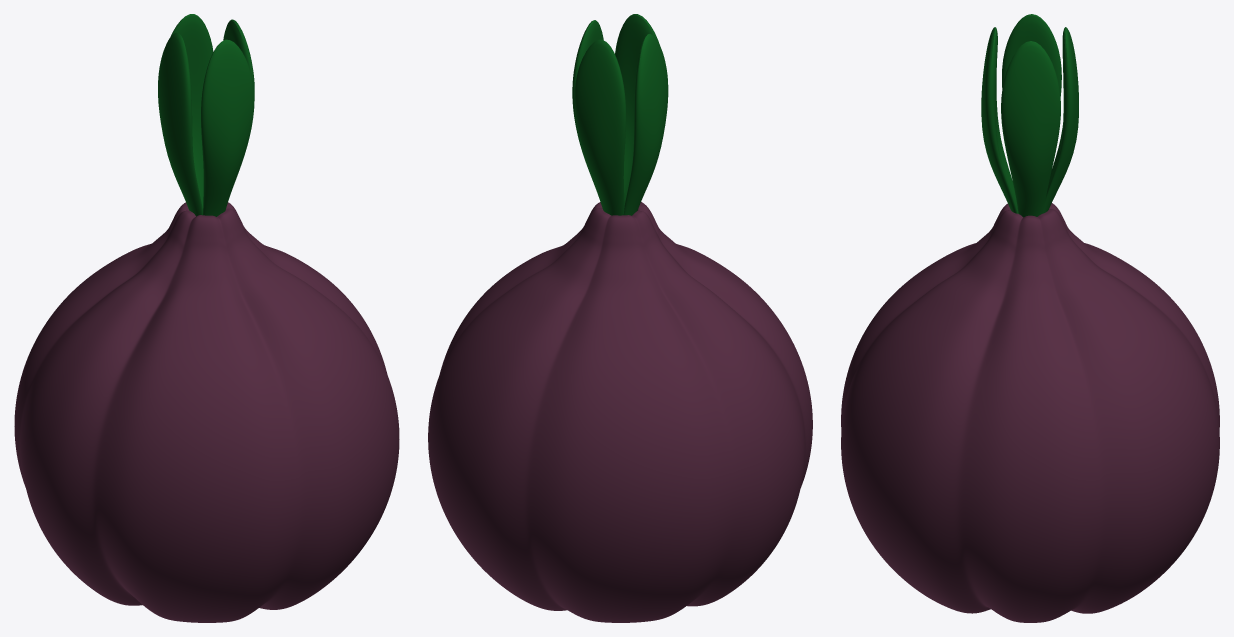
The model's file is onion.fbx.
3 renders of one model, left to right at view 1: azimuth 30°, elevation 25°; view 2: azimuth 150°, elevation 25°; view 3: azimuth 270°, elevation 25°, orthographic.
Visible parts, largest first — view 1: Sphere.003, Cube.003, Cube.002, Cube.001, Cube; view 2: Sphere.003, Cube.001, Cube.002, Cube.003, Cube; view 3: Sphere.003, Cube, Cube.003, Cube.001, Cube.002.
Part boxes in pixels (box(x1,y1,x2,y2)): Sphere.003: box(14, 202, 399, 622); Cube.003: box(201, 39, 254, 216); Cube.002: box(158, 32, 202, 216); Cube.001: box(170, 14, 213, 208); Cube: box(223, 19, 254, 99); Sphere.003: box(428, 202, 812, 622); Cube.001: box(574, 39, 625, 215); Cube.002: box(623, 34, 668, 215); Cube.003: box(615, 14, 659, 204); Cube: box(572, 20, 603, 205); Sphere.003: box(841, 203, 1219, 622); Cube: box(1001, 41, 1060, 217); Cube.003: box(981, 27, 1018, 213); Cube.001: box(1043, 27, 1078, 213); Cube.002: box(1002, 14, 1061, 96).
Bounding box in the file's own units: 157 × 250 × 154.
